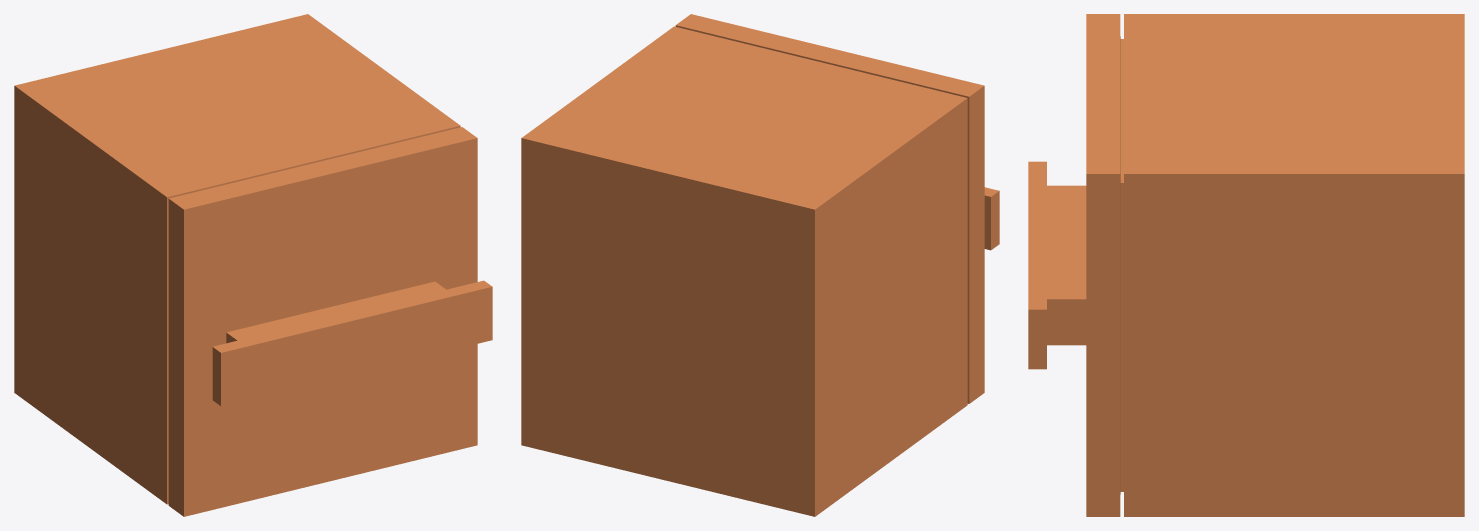
The model's file is Chest Drawer.fbx.
The picture shows the model from 3 angles, left to right: view 1: azimuth 30°, elevation 25°; view 2: azimuth 150°, elevation 25°; view 3: azimuth 270°, elevation 25°; orthographic projection. The views are drawn at different scales.
Visible parts, largest first — view 1: Chest Drawer; view 2: Chest Drawer; view 3: Chest Drawer.
Part boxes in pixels (x1,y1,x2,y2): Chest Drawer: [14, 14, 492, 516]; Chest Drawer: [521, 14, 999, 516]; Chest Drawer: [1028, 14, 1464, 516].
Bounding box in the file's own units: 100 × 100 × 115.
